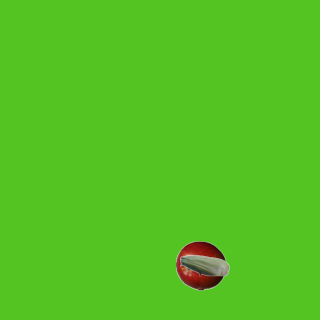Apple Braeburn: (175, 240, 225, 290)
Corn Husk: (179, 240, 229, 290)
